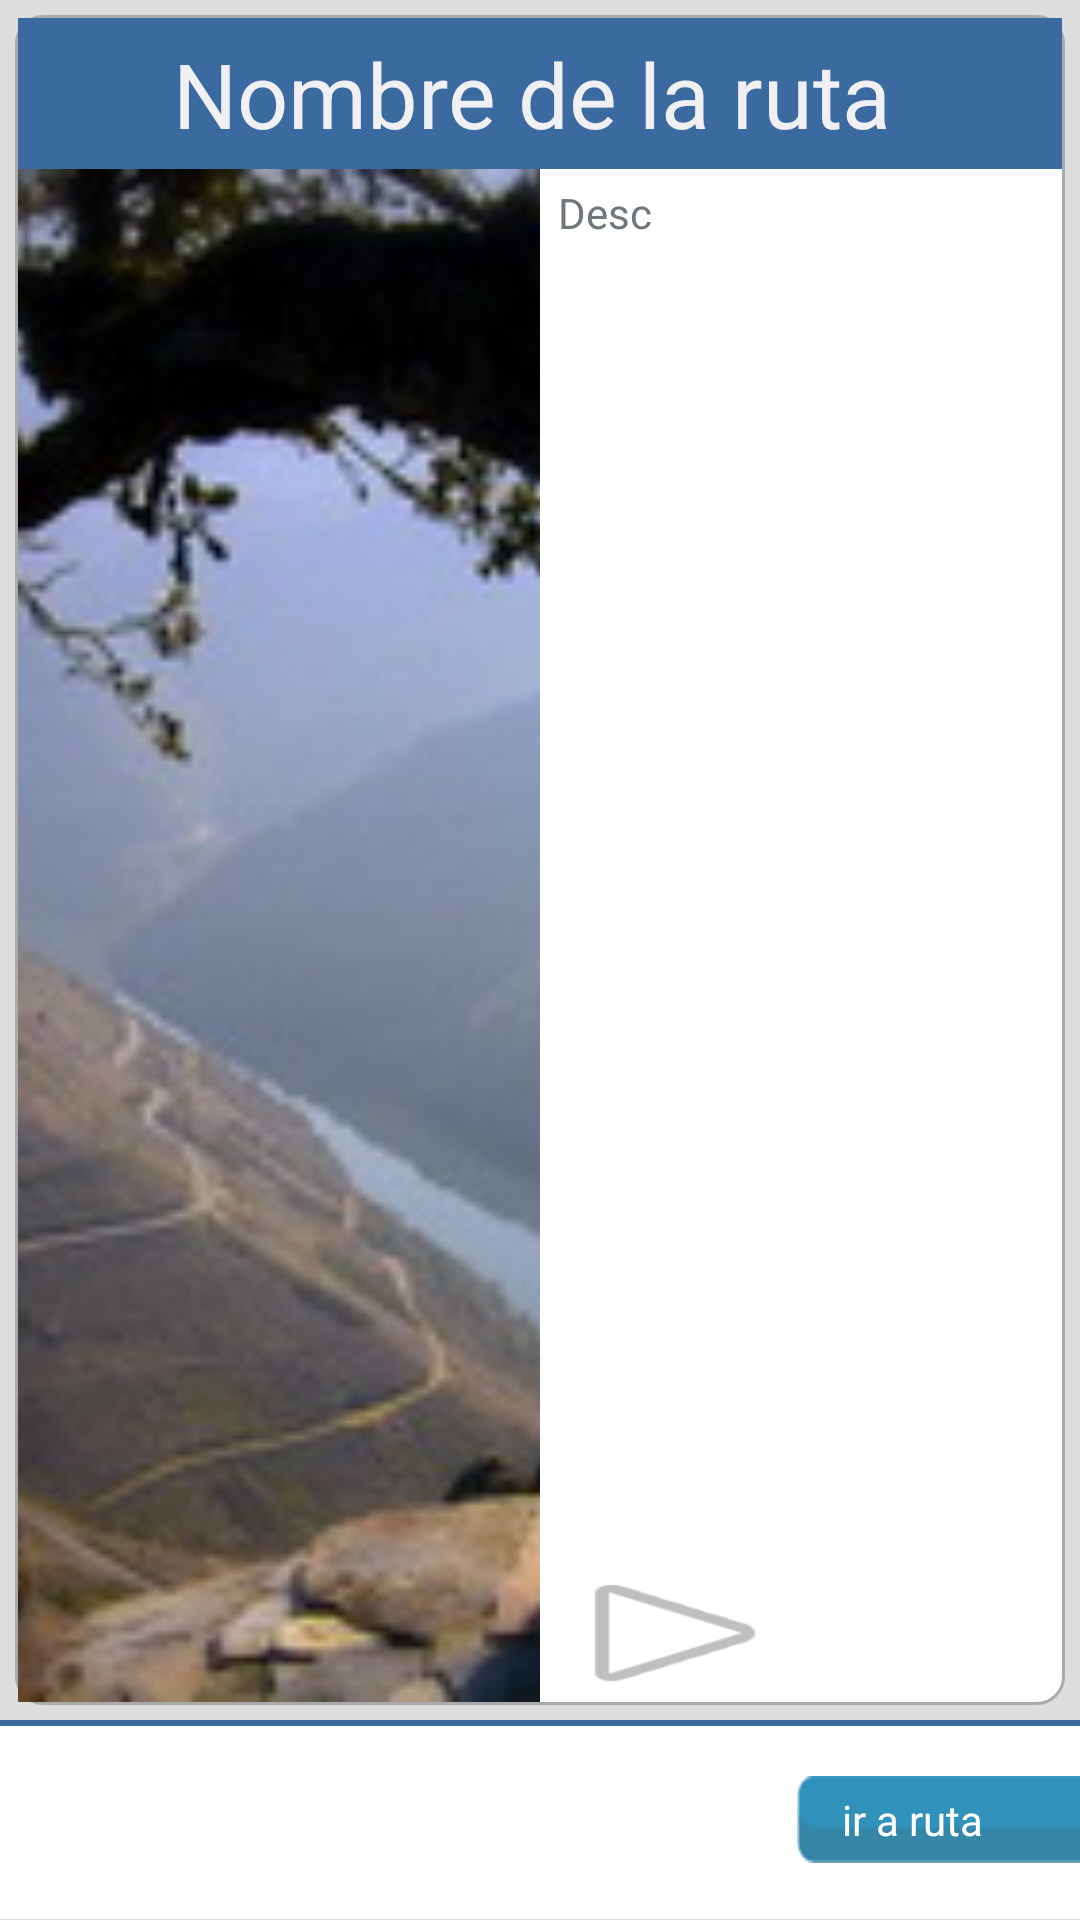

Icons on this 1080×1920 Android screen, each with the point to tap as [x,y]:
play pause: [675,1633]
